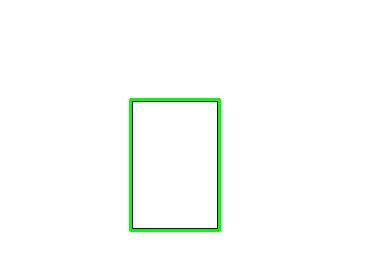line_segment: (129, 98, 221, 232)
